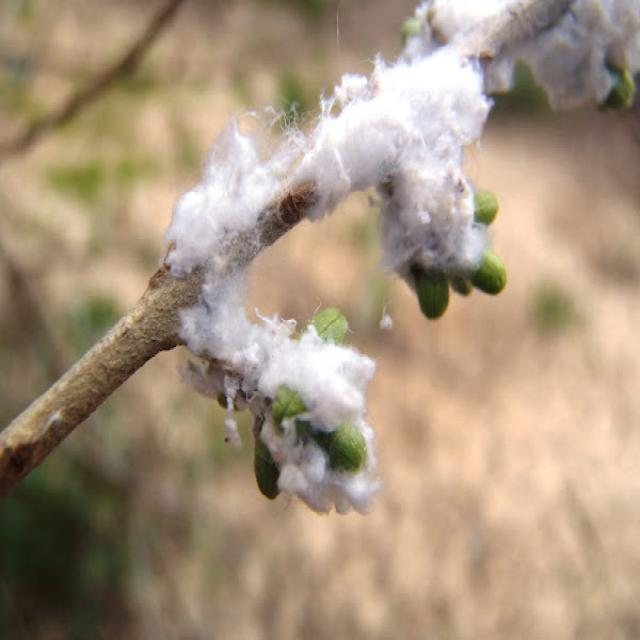Psyllid: (316, 48, 506, 317), (181, 284, 380, 512), (162, 104, 316, 277)
